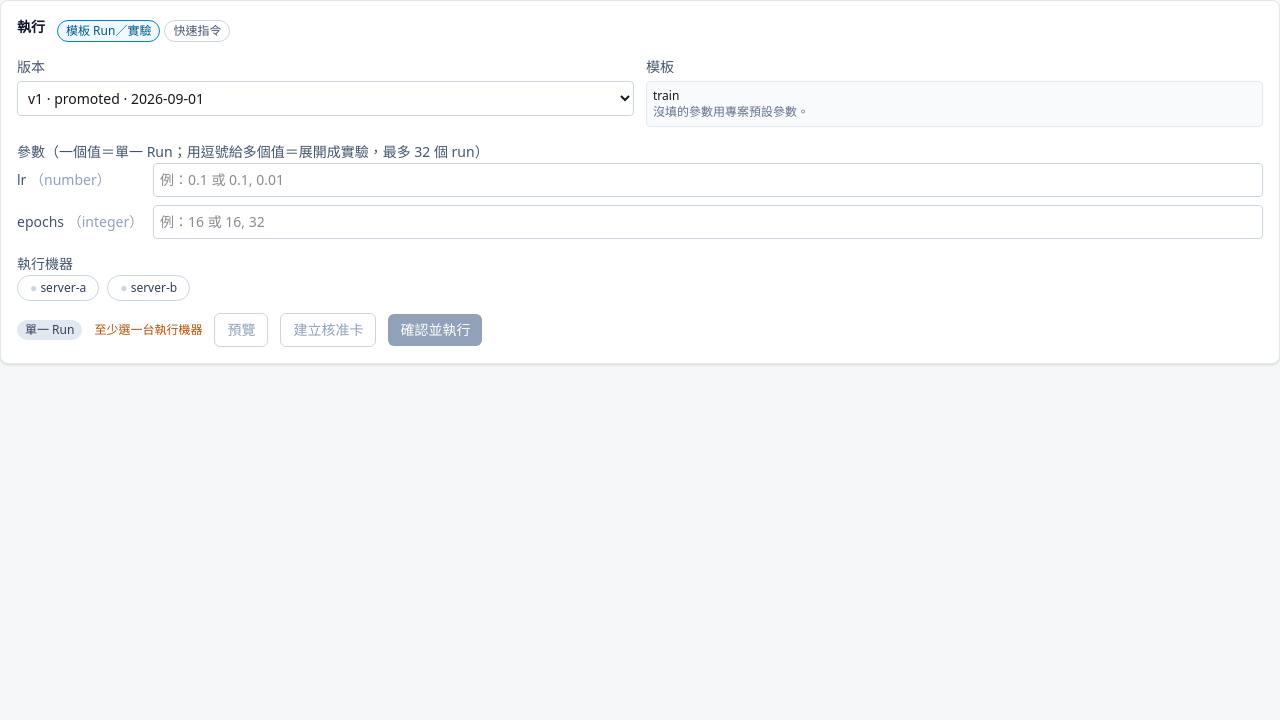
Scenario: RunComposer (整頓 U6) › sends single values as one run pinned to one target
Type "0.1" into the field with placeholder "例：0.1 或 0.1, 0.01" at x=708, y=180, box [153,163,1263,197]
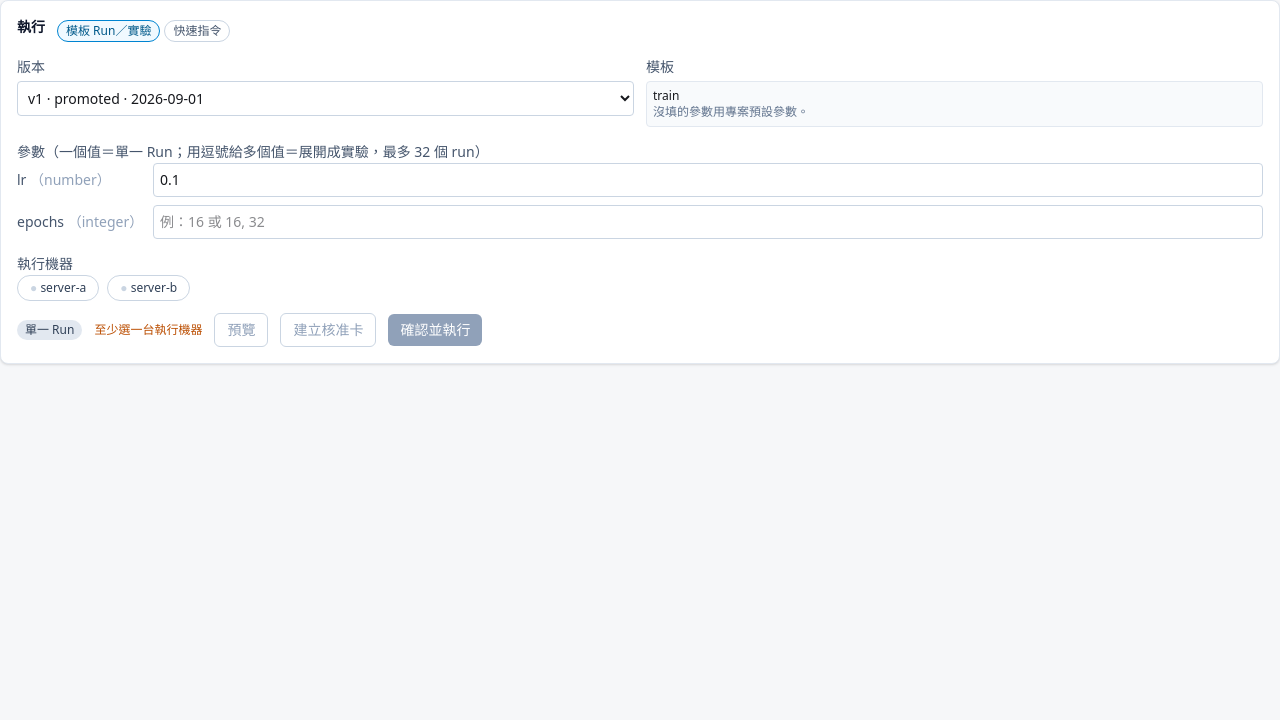
Click the button "● server-a" at x=58, y=288, box [17,275,99,301]
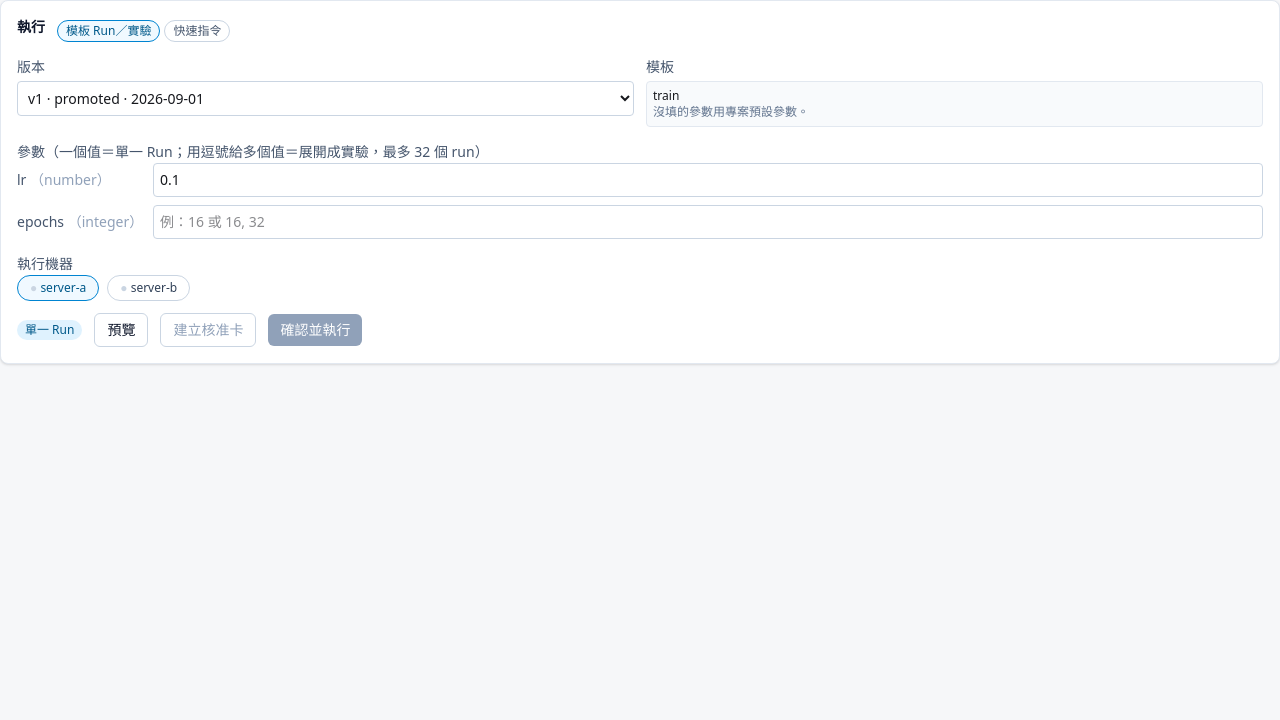
Click the button "預覽" at x=121, y=330, box [94,313,148,347]
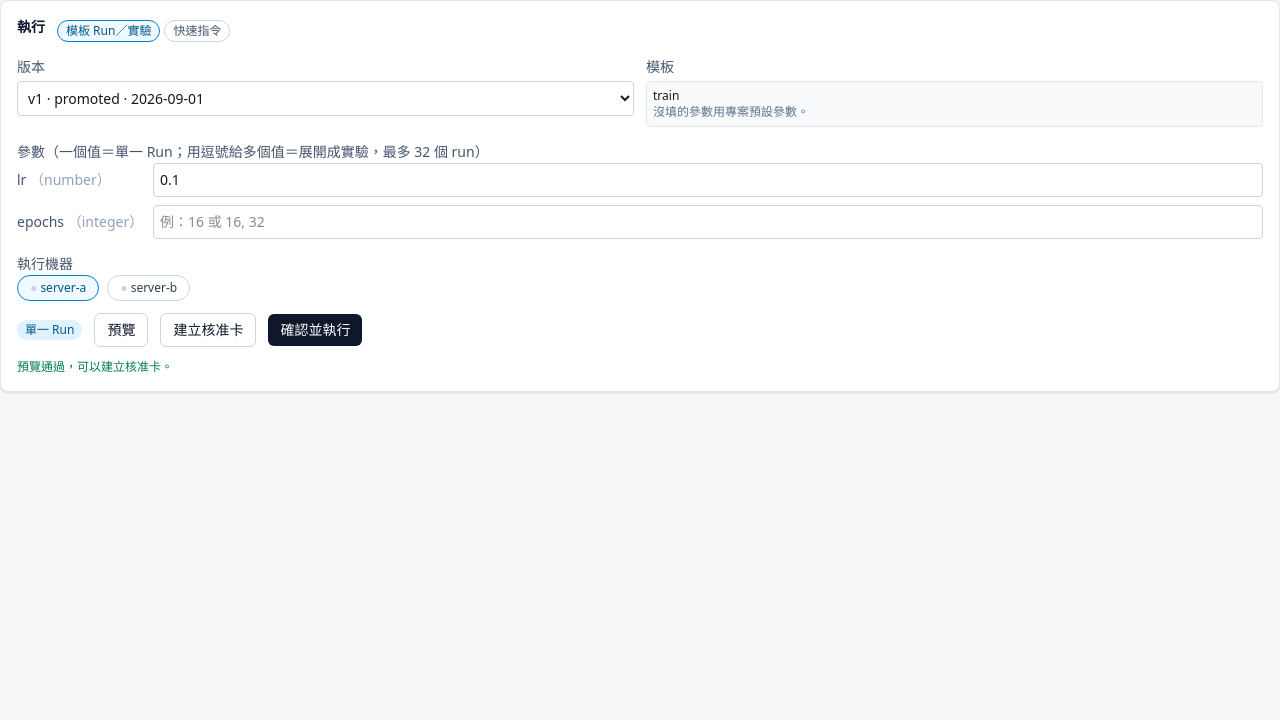
expect the text "預覽通過，可以建立核准卡。" is shown: met, box [17,358,173,375]
Click the button "建立核准卡" at x=208, y=330, box [160,313,256,347]
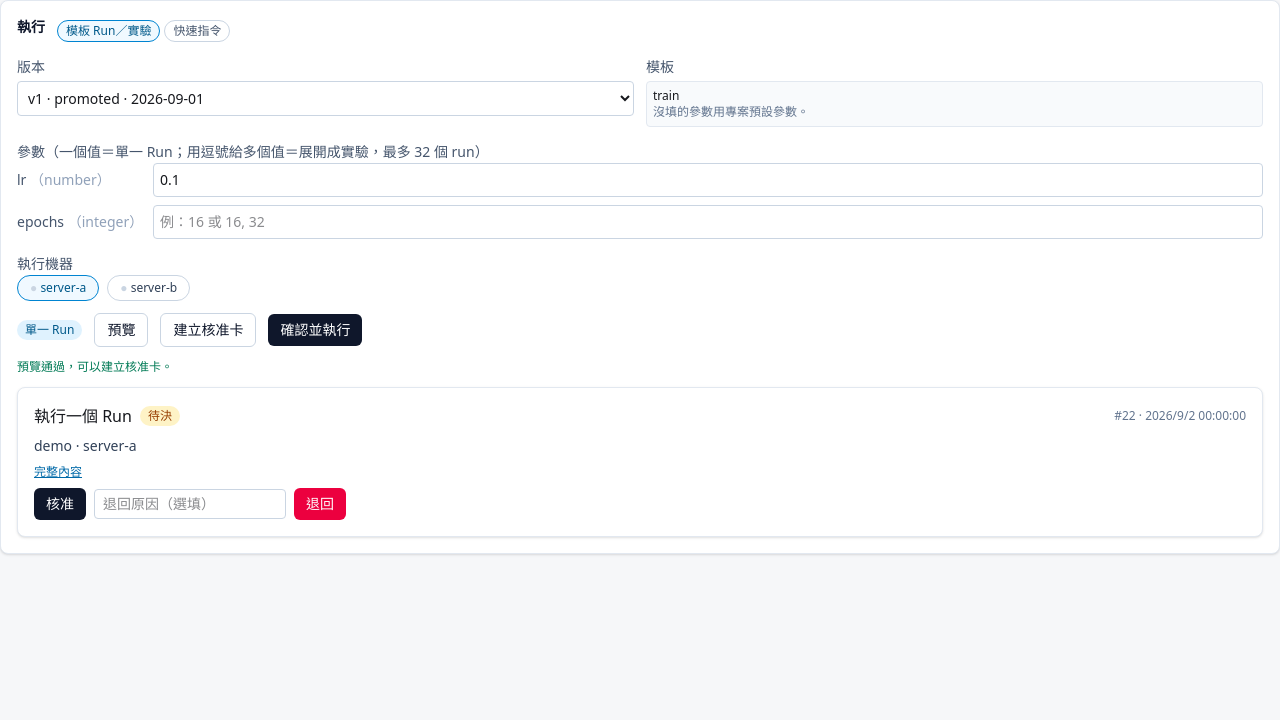
expect the text "執行一個 Run" is shown: met, box [34,404,132,428]
